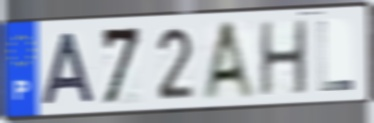2: (155, 25, 198, 103)
7: (100, 25, 143, 108)
A: (200, 18, 260, 102), (40, 30, 97, 109)
H: (257, 17, 310, 99)
L: (316, 18, 356, 95)
